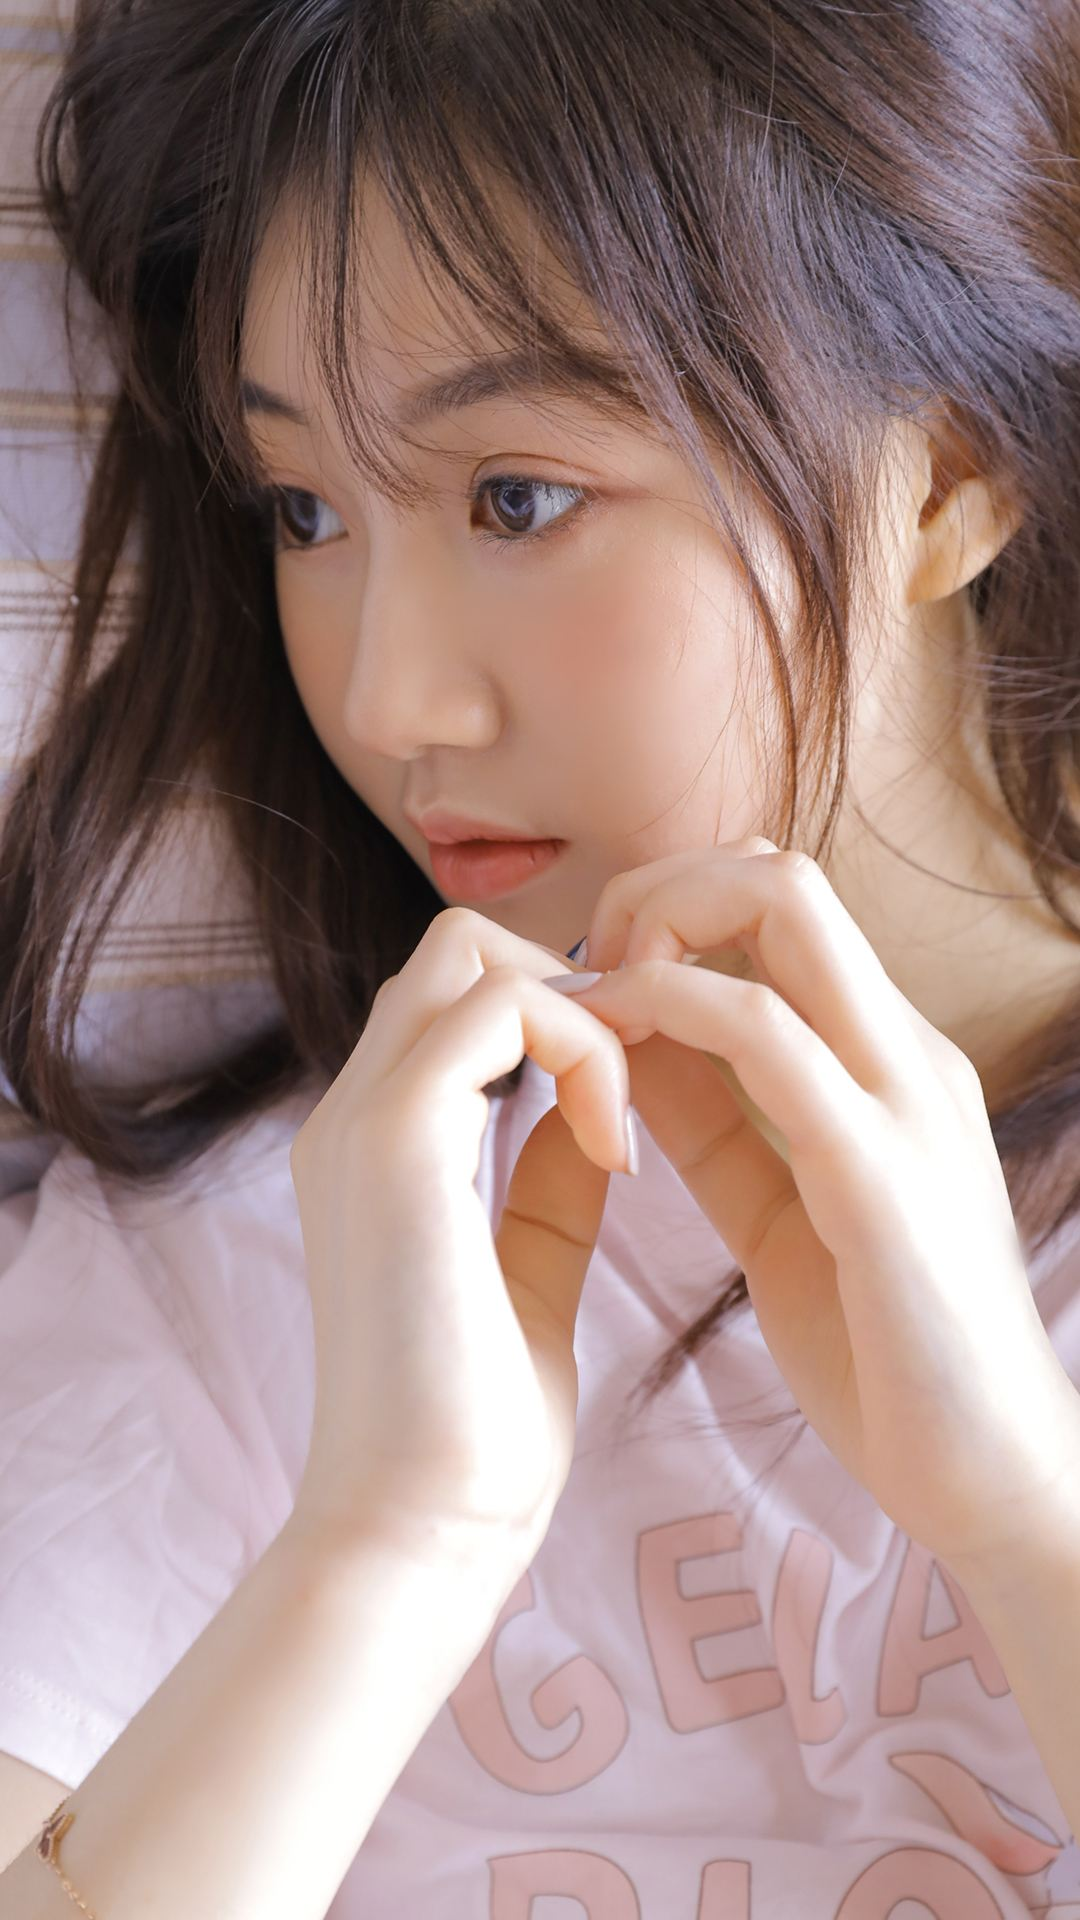person: (40, 68, 1080, 1423)
